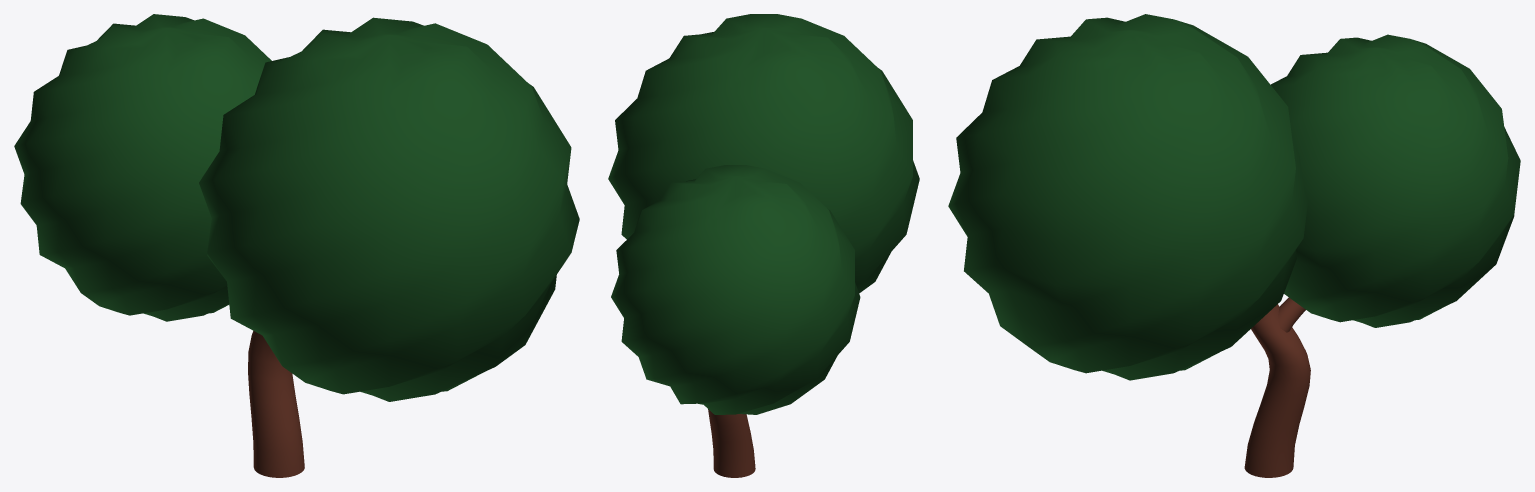
The model's file is Bush2.fbx.
3 views of the same model, side by side, from view 1: azimuth 30°, elevation 25°; view 2: azimuth 150°, elevation 25°; view 3: azimuth 270°, elevation 25° (orthographic). The views are drawn at different scales.
Parts seen in each view (by area): view 1: Foliage1, Foliage2, Trunk1; view 2: Foliage2, Foliage1, Trunk1; view 3: Foliage1, Foliage2, Trunk1, Trunk2.
Boxes of the visible parts, x1,y1,x2,y2 form: Foliage1: (199, 17, 579, 401); Foliage2: (14, 14, 271, 321); Trunk1: (248, 331, 304, 477); Foliage2: (611, 165, 860, 414); Foliage1: (608, 14, 919, 293); Trunk1: (708, 409, 755, 477); Foliage1: (948, 14, 1307, 380); Foliage2: (1271, 34, 1520, 327); Trunk1: (1244, 304, 1310, 477); Trunk2: (1278, 297, 1305, 332).
Size of the model in its own units: 2.34 by 2.73 by 3.12.
